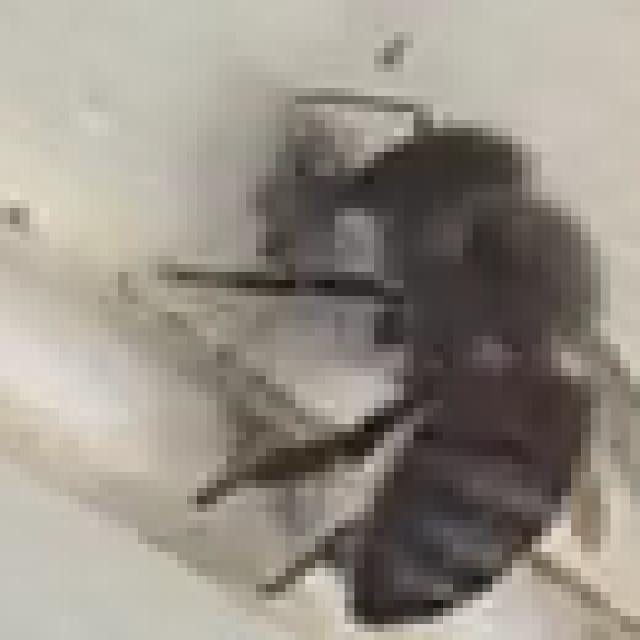honeybee: (188, 91, 584, 614)
